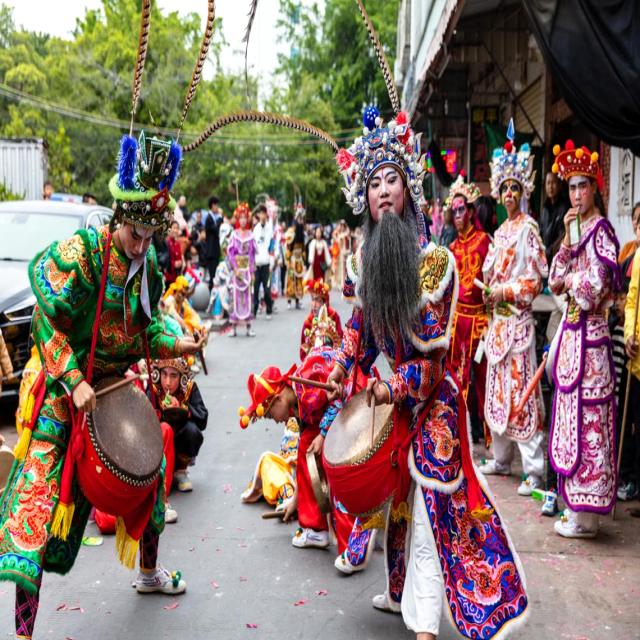Reeves-s Pheasant: (184, 109, 341, 154), (350, 0, 402, 111), (180, 0, 220, 125), (131, 0, 154, 116)
